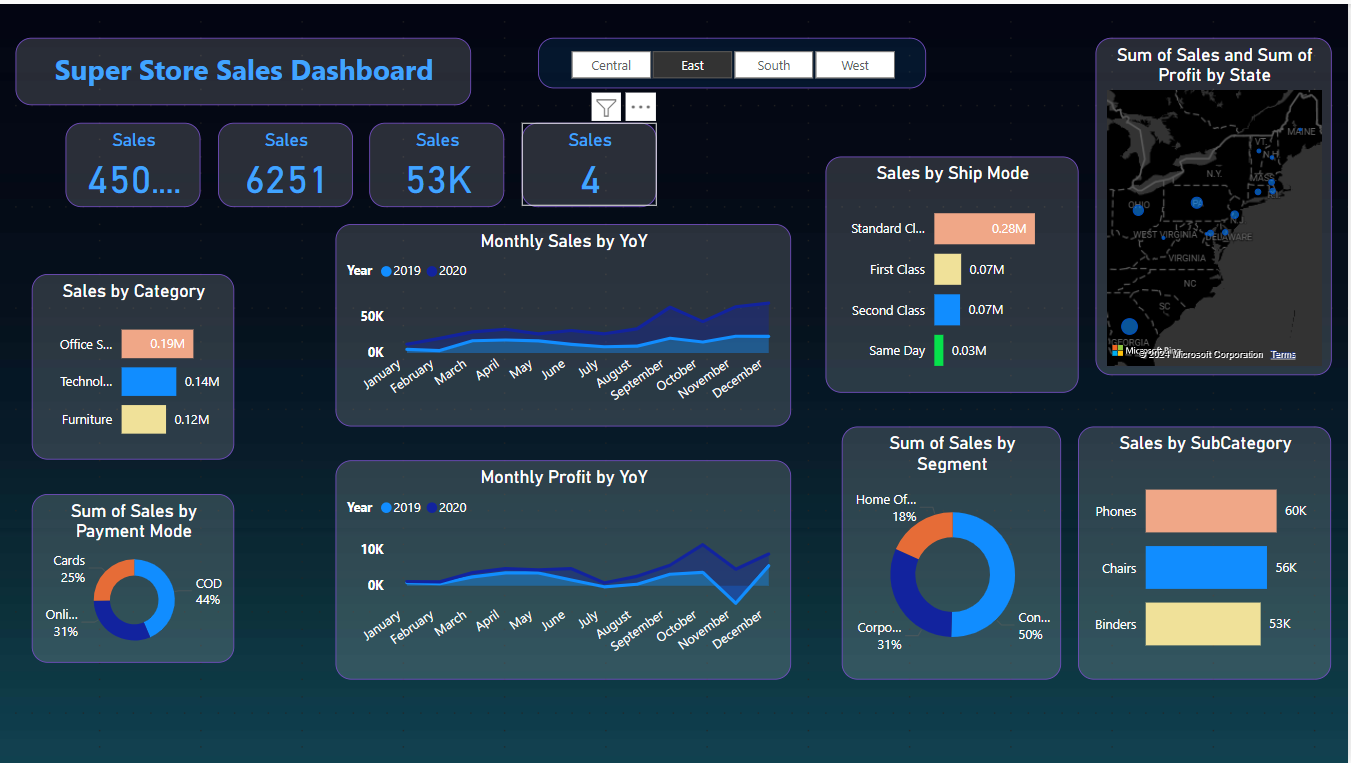

Layout of this report page (visuals, bound fields, positions):
{"tool":"powerbi","page":{"name":"Page 1","canvas":[1280,720],"ordinal":0},"visuals":[{"type":"clusteredBarChart","title":"Sales by Category","fields":{"Category":["SuperStore_Sales_Dataset (1).Category"],"Y":["Sum(SuperStore_Sales_Dataset (1).Sales)"]},"box":[32,256,192,176],"z":0},{"type":"clusteredBarChart","title":"Sales by SubCategory","fields":{"Y":["Sum(SuperStore_Sales_Dataset (1).Sales)"],"Category":["SuperStore_Sales_Dataset (1).Sub-Category"]},"box":[1024,400,240,240],"z":1000},{"type":"clusteredBarChart","title":"Sales by Ship Mode","fields":{"Y":["Sum(SuperStore_Sales_Dataset (1).Sales)"],"Category":["SuperStore_Sales_Dataset (1).Ship Mode"]},"box":[784,144,240,224],"z":2000},{"type":"stackedAreaChart","title":"Monthly Sales by YoY","fields":{"Category":["SuperStore_Sales_Dataset (1).Order Date.Variation.Date Hierarchy.Month","SuperStore_Sales_Dataset (1).Order Date.Variation.Date Hierarchy.Day"],"Y":["Sum(SuperStore_Sales_Dataset (1).Sales)"],"Series":["SuperStore_Sales_Dataset (1).Order Date.Variation.Date Hierarchy.Year"]},"box":[320,208,432,192],"z":3000},{"type":"stackedAreaChart","title":"Monthly Profit by YoY","fields":{"Category":["SuperStore_Sales_Dataset (1).Order Date.Variation.Date Hierarchy.Month","SuperStore_Sales_Dataset (1).Order Date.Variation.Date Hierarchy.Day"],"Series":["SuperStore_Sales_Dataset (1).Order Date.Variation.Date Hierarchy.Year"],"Y":["Sum(SuperStore_Sales_Dataset (1).Profit)"]},"box":[320,432,432,208],"z":4000},{"type":"map","fields":{"Category":["SuperStore_Sales_Dataset (1).State"],"Size":["Sum(SuperStore_Sales_Dataset (1).Sales)"]},"box":[1040,32,224,320],"z":4001},{"type":"donutChart","fields":{"Category":["SuperStore_Sales_Dataset (1).Segment"],"Y":["Sum(SuperStore_Sales_Dataset (1).Sales)"]},"box":[800,400,208,240],"z":4002},{"type":"donutChart","fields":{"Category":["SuperStore_Sales_Dataset (1).Payment Mode"],"Y":["Sum(SuperStore_Sales_Dataset (1).Sales)"]},"box":[32,464,192,160],"z":4003},{"type":"slicer","fields":{"Values":["SuperStore_Sales_Dataset (1).Region"]},"box":[512,32,368,48],"z":4004},{"type":"textbox","box":[16,32,432,64],"z":4005},{"type":"card","title":"Sales","fields":{"Values":["Sum(SuperStore_Sales_Dataset (1).Sales)"]},"box":[64,112,128,80],"z":4006},{"type":"card","title":"Sales","fields":{"Values":["Sum(SuperStore_Sales_Dataset (1).Quantity)"]},"box":[208,112,128,80],"z":4007},{"type":"card","title":"Sales","fields":{"Values":["Sum(SuperStore_Sales_Dataset (1).Profit)"]},"box":[352,112,128,80],"z":4008},{"type":"card","title":"Sales","fields":{"Values":["Avg(SuperStore_Sales_Dataset (1).AvgDelivery)"]},"box":[496,112,128,80],"z":4009}]}

Visuals, with their boxes in screenshot pixels (x1, y1, x2, y2), scaled from the page's 1280x720 canvas onto the 1351x763 screenshot:
"Sales by Category" clusteredBarChart: bbox=(34, 271, 236, 458)
"Sales by SubCategory" clusteredBarChart: bbox=(1081, 424, 1334, 678)
"Sales by Ship Mode" clusteredBarChart: bbox=(827, 153, 1081, 390)
"Monthly Sales by YoY" stackedAreaChart: bbox=(338, 220, 794, 424)
"Monthly Profit by YoY" stackedAreaChart: bbox=(338, 458, 794, 678)
map - SuperStore_Sales_Dataset (1).State x Sum(SuperStore_Sales_Dataset (1).Sales): bbox=(1098, 34, 1334, 373)
donutChart - SuperStore_Sales_Dataset (1).Segment x Sum(SuperStore_Sales_Dataset (1).Sales): bbox=(844, 424, 1064, 678)
donutChart - SuperStore_Sales_Dataset (1).Payment Mode x Sum(SuperStore_Sales_Dataset (1).Sales): bbox=(34, 492, 236, 661)
slicer - SuperStore_Sales_Dataset (1).Region: bbox=(540, 34, 929, 85)
textbox: bbox=(17, 34, 473, 102)
"Sales" card: bbox=(68, 119, 203, 203)
"Sales" card: bbox=(220, 119, 355, 203)
"Sales" card: bbox=(372, 119, 507, 203)
"Sales" card: bbox=(524, 119, 659, 203)
